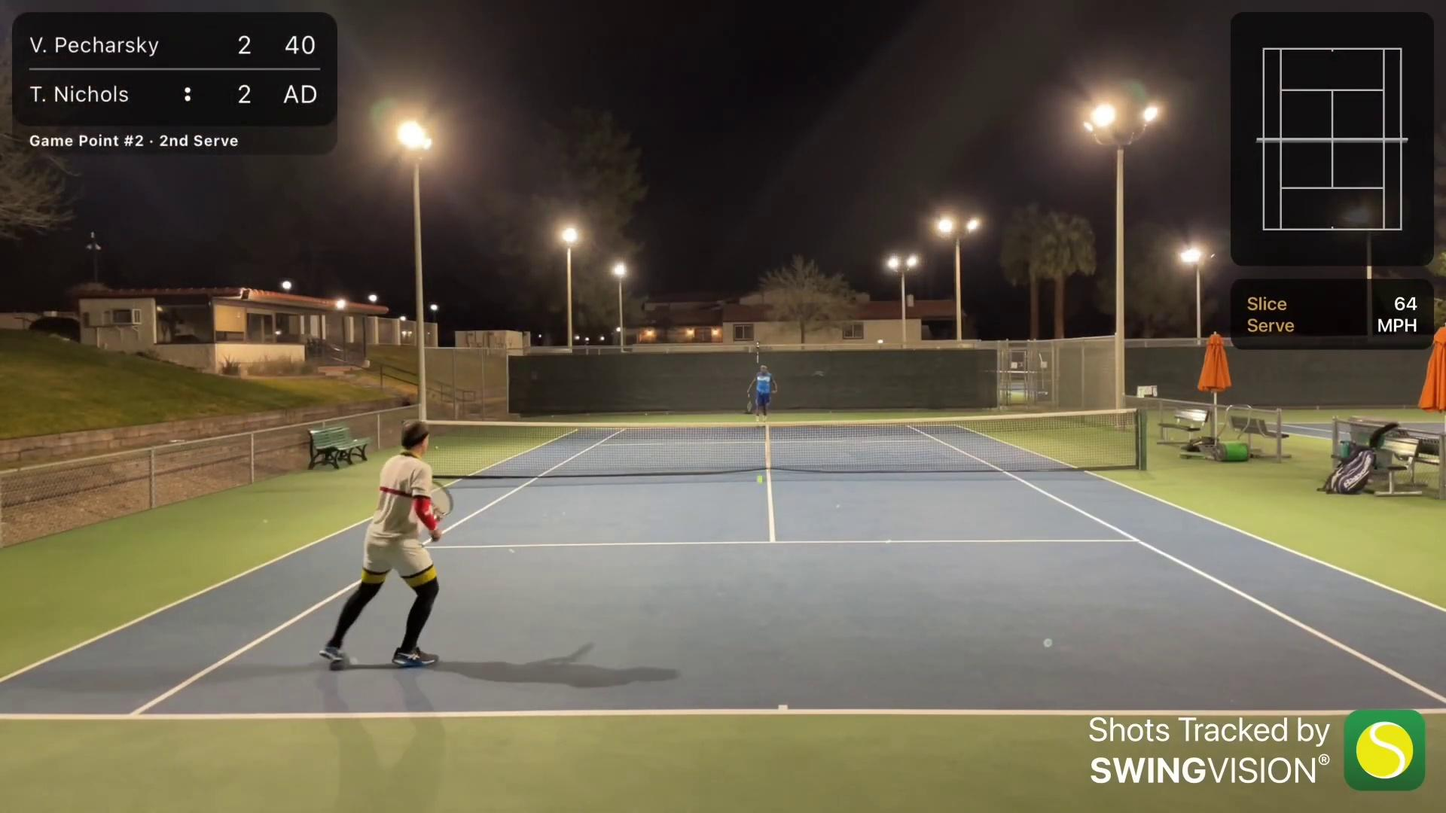ball: (751, 476, 766, 487)
